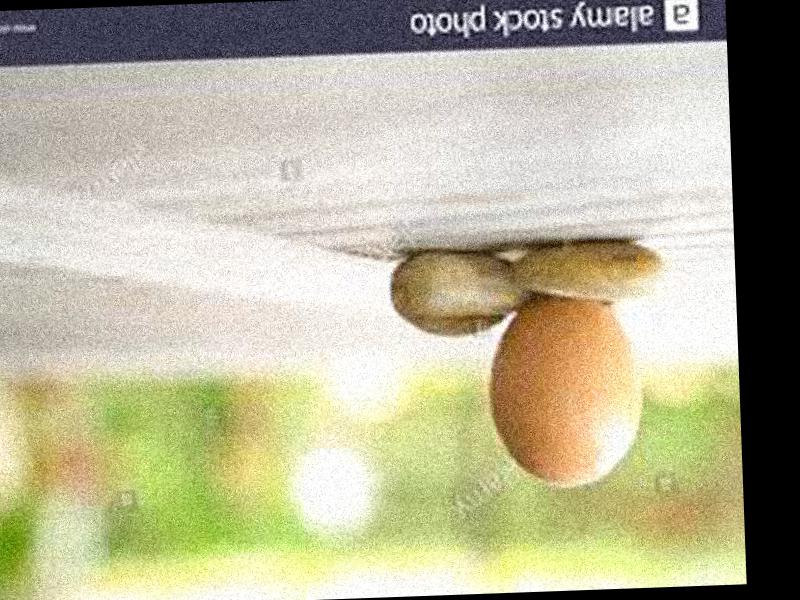Eggs: (485, 293, 647, 486)
